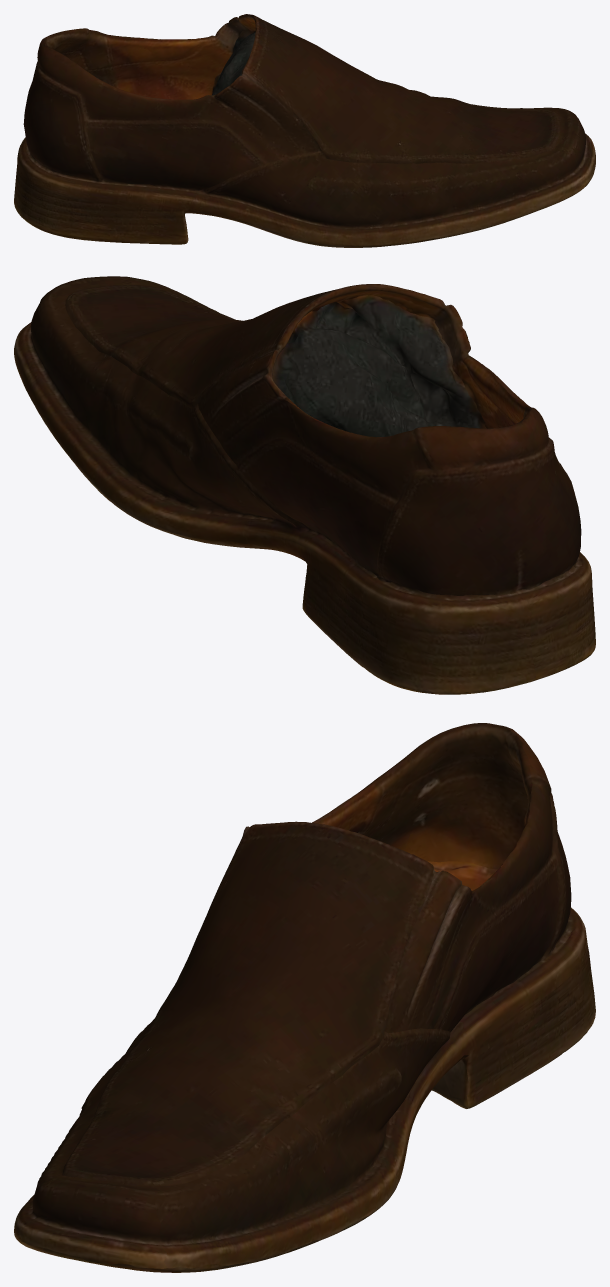
The model's file is oxford.glb.
3 renders of one model, top to bottom at view 1: azimuth 30°, elevation 25°; view 2: azimuth 150°, elevation 25°; view 3: azimuth 270°, elevation 25°, orthographic. The views are drawn at different scales.
Parts seen in each view (by area): view 1: Object_2; view 2: Object_2; view 3: Object_2.
Boxes of the visible parts, <box> form: Object_2: <box>14,14,595,247</box>; Object_2: <box>14,276,595,694</box>; Object_2: <box>14,723,595,1272</box>.
Bounding box in the file's own units: 0.2859 × 0.1073 × 0.1912.
1 material, 1 textured.
